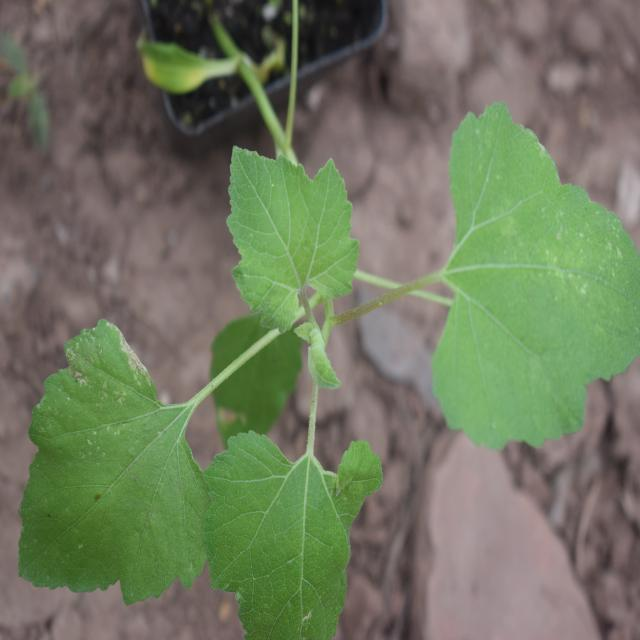cocklebur: (32, 137, 628, 604)
